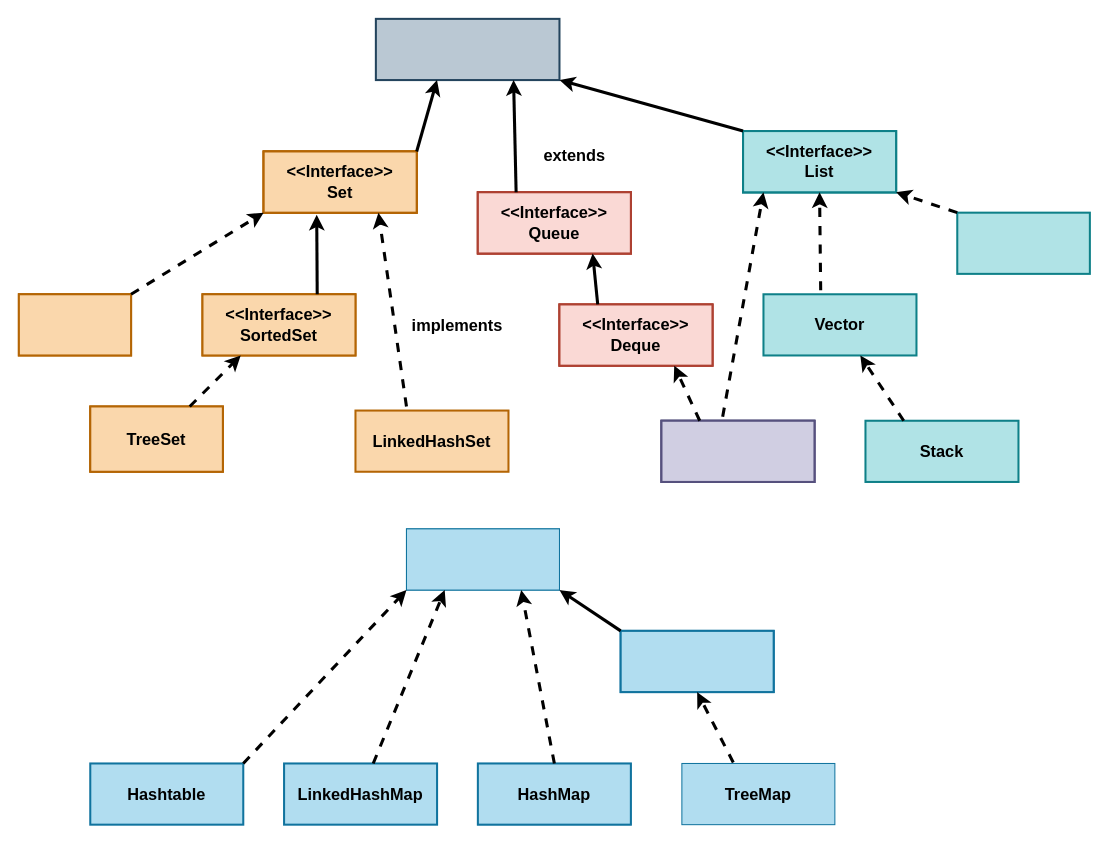
The diagram is 1108 pixels wide and 843 high, and some of its shapes have lost their labels. Here are the shapes that lost their labels. From the top down, the centre of each, then its label:
the point at 467,49: <<Interface>> Collection
the point at 1023,242: ArrayList
the point at 74,324: HashSet
the point at 737,450: LinkedList
the point at 482,559: <<Interface>> Map
the point at 696,661: <<Interface>> SortedMap
